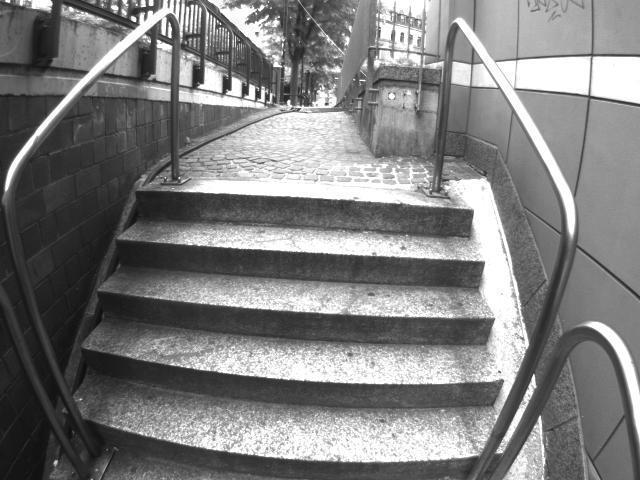Escaleras: (63, 187, 553, 479)
